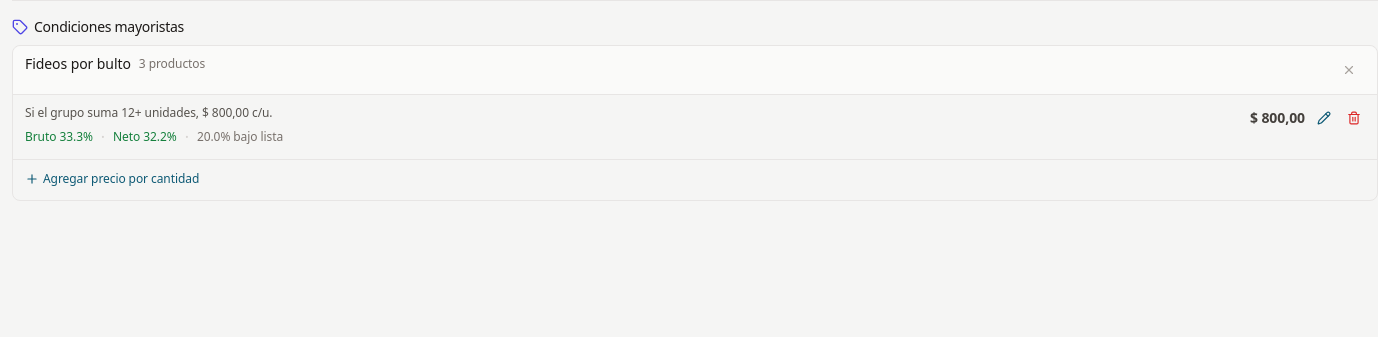
Scenario: ProductoCondicionesMayoristas › el margen se recalcula con lo tipeado, antes de guardar
Click the button named "Editar la escala". click: (1324, 118)
box: [1313,107,1335,129]
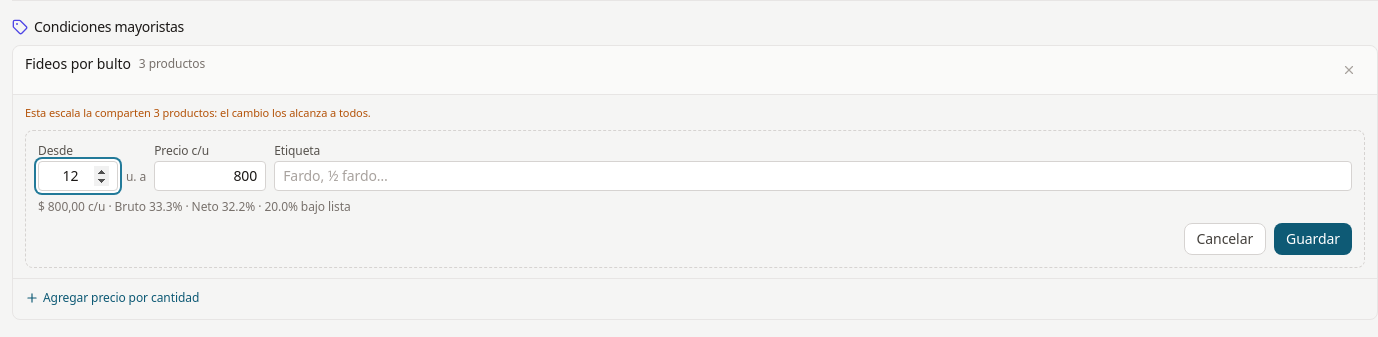
Replace the text in the field named "Precio mayorista" with "900". click: (210, 176)
box: [154,160,266,190]
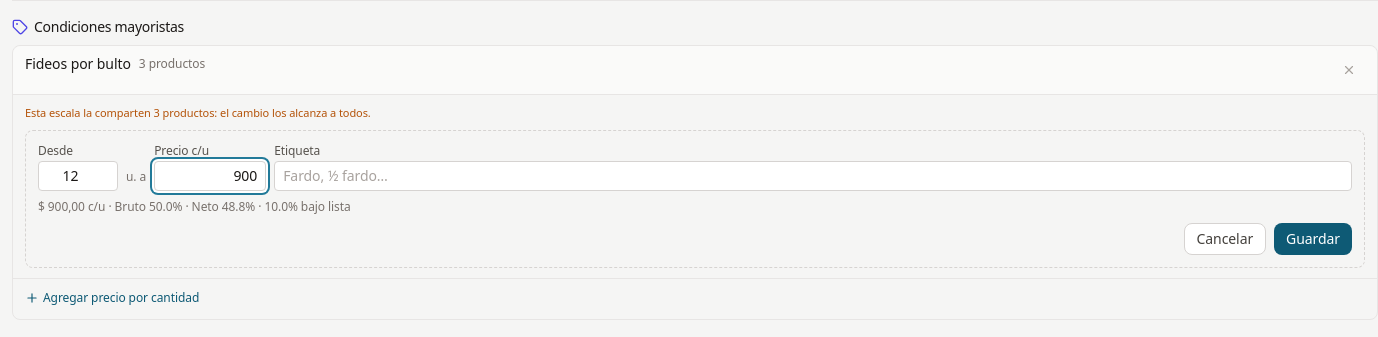
Expected: the text "$ 900,00 c/u · Bruto 50.0% · Neto 48.8% · 10.0% bajo lista" is shown, [38,198,351,214]
